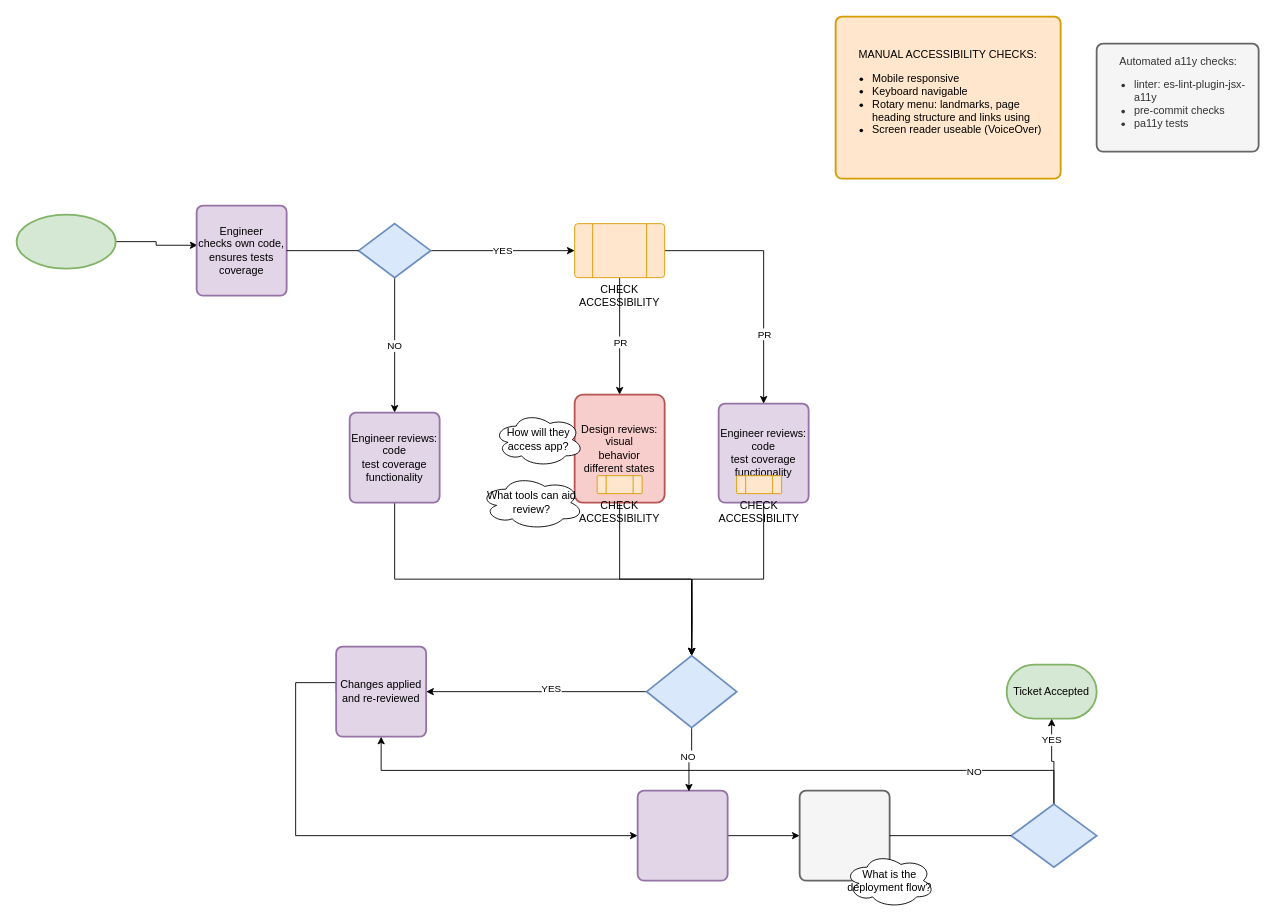
The diagram is 1274 pixels wide and 923 high, and some of its shapes have lost their labels. The box of each missing label's shape, as (x1, y1, x2, y2) in pixels:
ACCEPTED?: (1010, 803, 1097, 868)
CHANGES REQUESTED?: (645, 654, 737, 728)
Engineer starts a ticket: (15, 213, 116, 269)
Includes UI?: (357, 222, 431, 278)
PR merged to main: (636, 789, 728, 881)
Product reviews in staging (or test?) env for AC: (798, 789, 890, 881)
